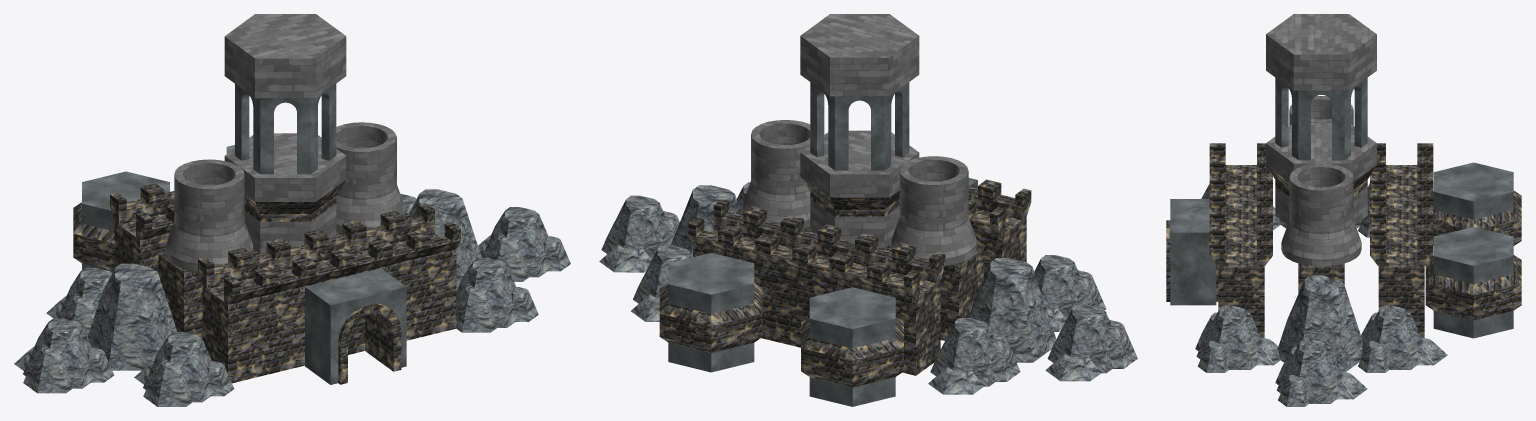
The model's file is Building2.glb.
3 views of the same model, side by side, from view 1: azimuth 30°, elevation 25°; view 2: azimuth 150°, elevation 25°; view 3: azimuth 270°, elevation 25° (orthographic). The views are drawn at different scales.
Parts seen in each view (by area): view 1: Build1; view 2: Build1; view 3: Build1.
Part boxes in pixels (x1,y1,x2,y2): Build1: (14, 14, 570, 406); Build1: (599, 14, 1137, 406); Build1: (1166, 14, 1521, 406).
Size of the model in its own units: 7 by 3.5 by 4.44.
5 materials, 5 textured.
